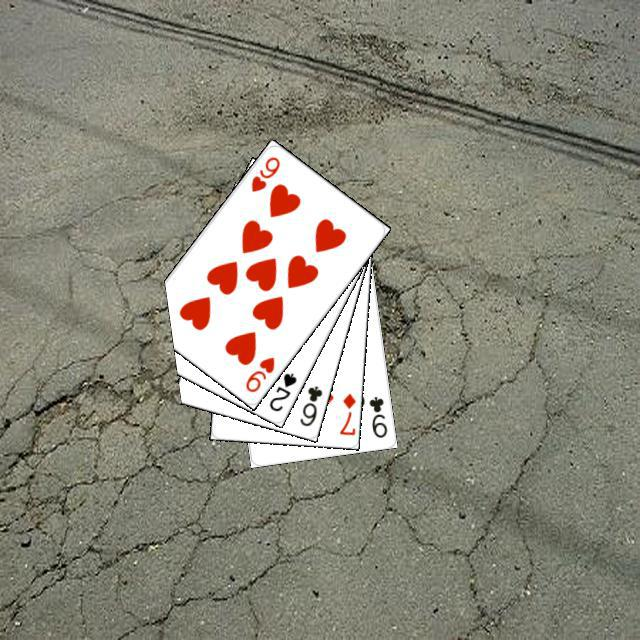2s: (264, 368, 299, 413)
6c: (295, 381, 324, 428)
7d: (335, 388, 357, 437)
9c: (364, 391, 389, 439)
9h: (240, 352, 276, 394), (246, 152, 282, 194)
